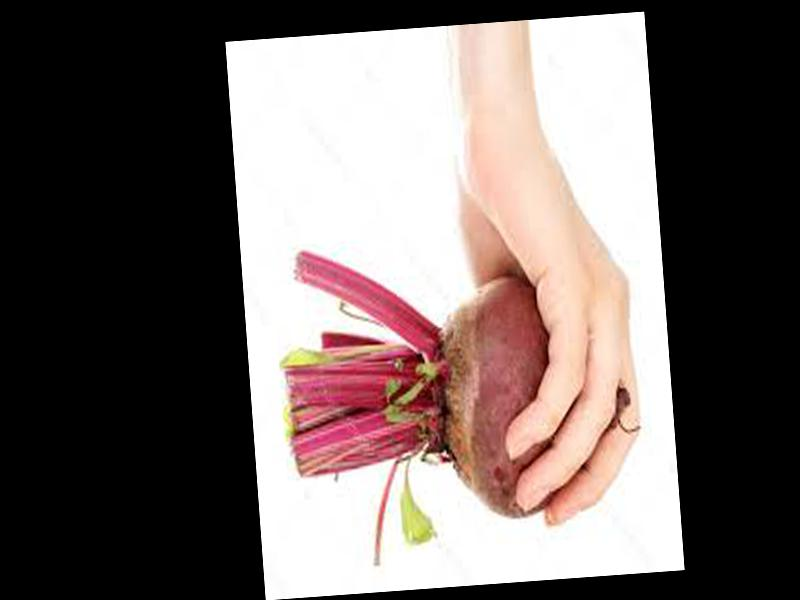Beet: (273, 228, 643, 570)
